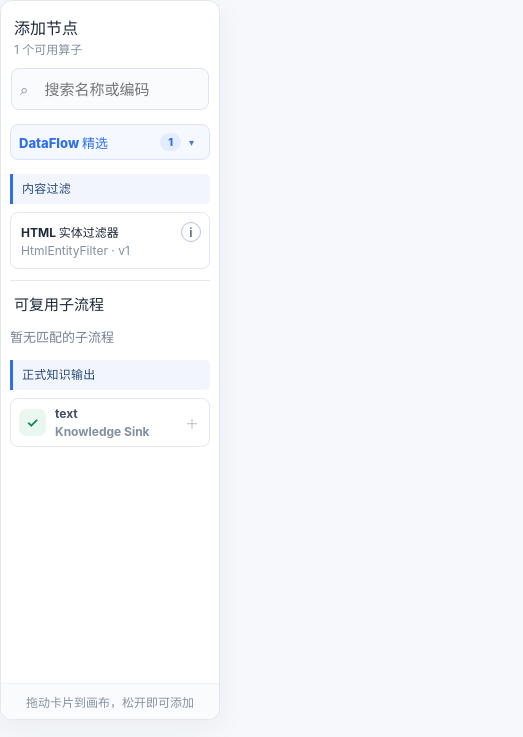
operator help has no graph mutations › keeps names only, reveals a two-line summary without a native title
The image size is (523, 737).
expect the text "整条文本" is not shown: met
Hover over the element showing "HTML 实体过滤器 HtmlEntityFilter · v1 i": coordinates (110, 240) [10,212,210,269]
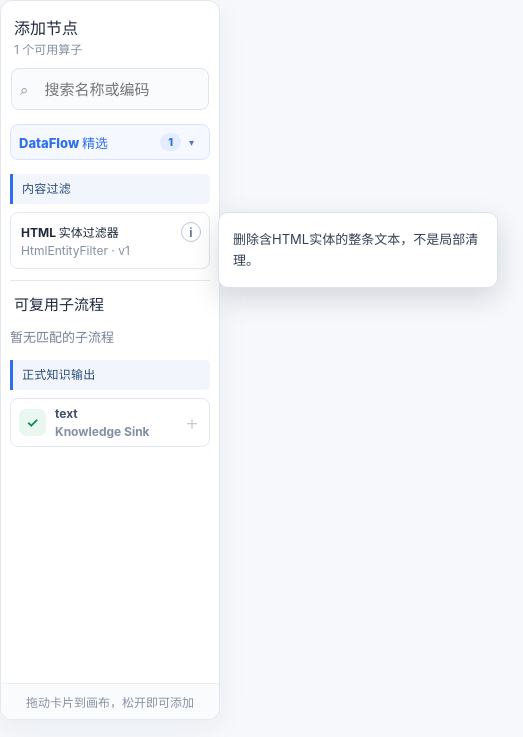
expect the tooltip "删除含HTML实体的整条文本，不是局部清理。" is shown: met, box [218,212,498,288]
expect the text "删除含HTML实体的整条文本，不是局部清理。" is shown: met, box [233,229,483,271]
